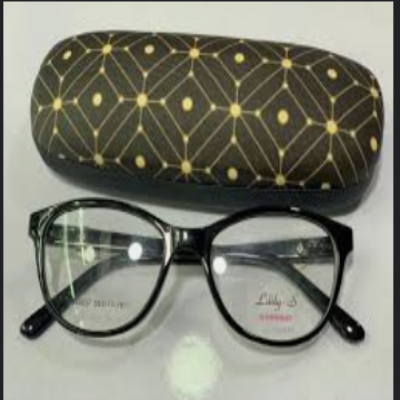glasses: (10, 195, 368, 358)
